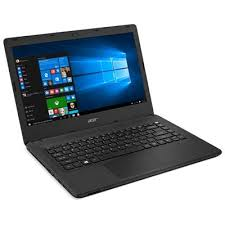laptop: (3, 28, 219, 197)
